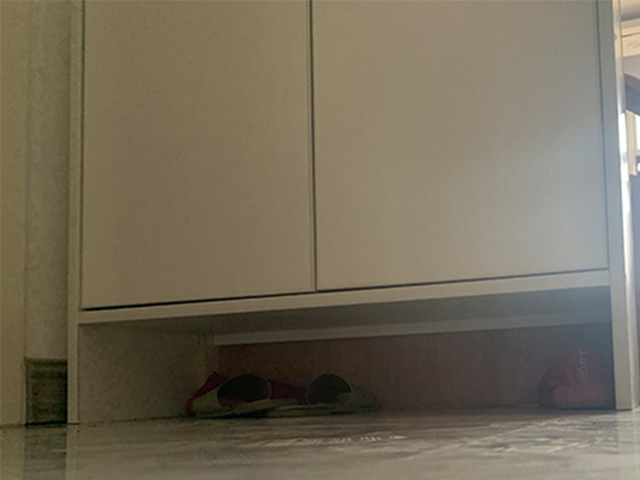cabinet: (65, 1, 640, 425)
slippers: (190, 376, 292, 419), (275, 374, 378, 416)
